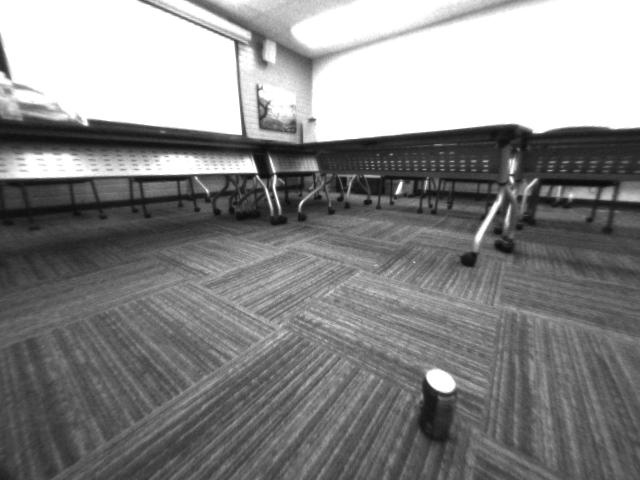can: (411, 363, 464, 452)
